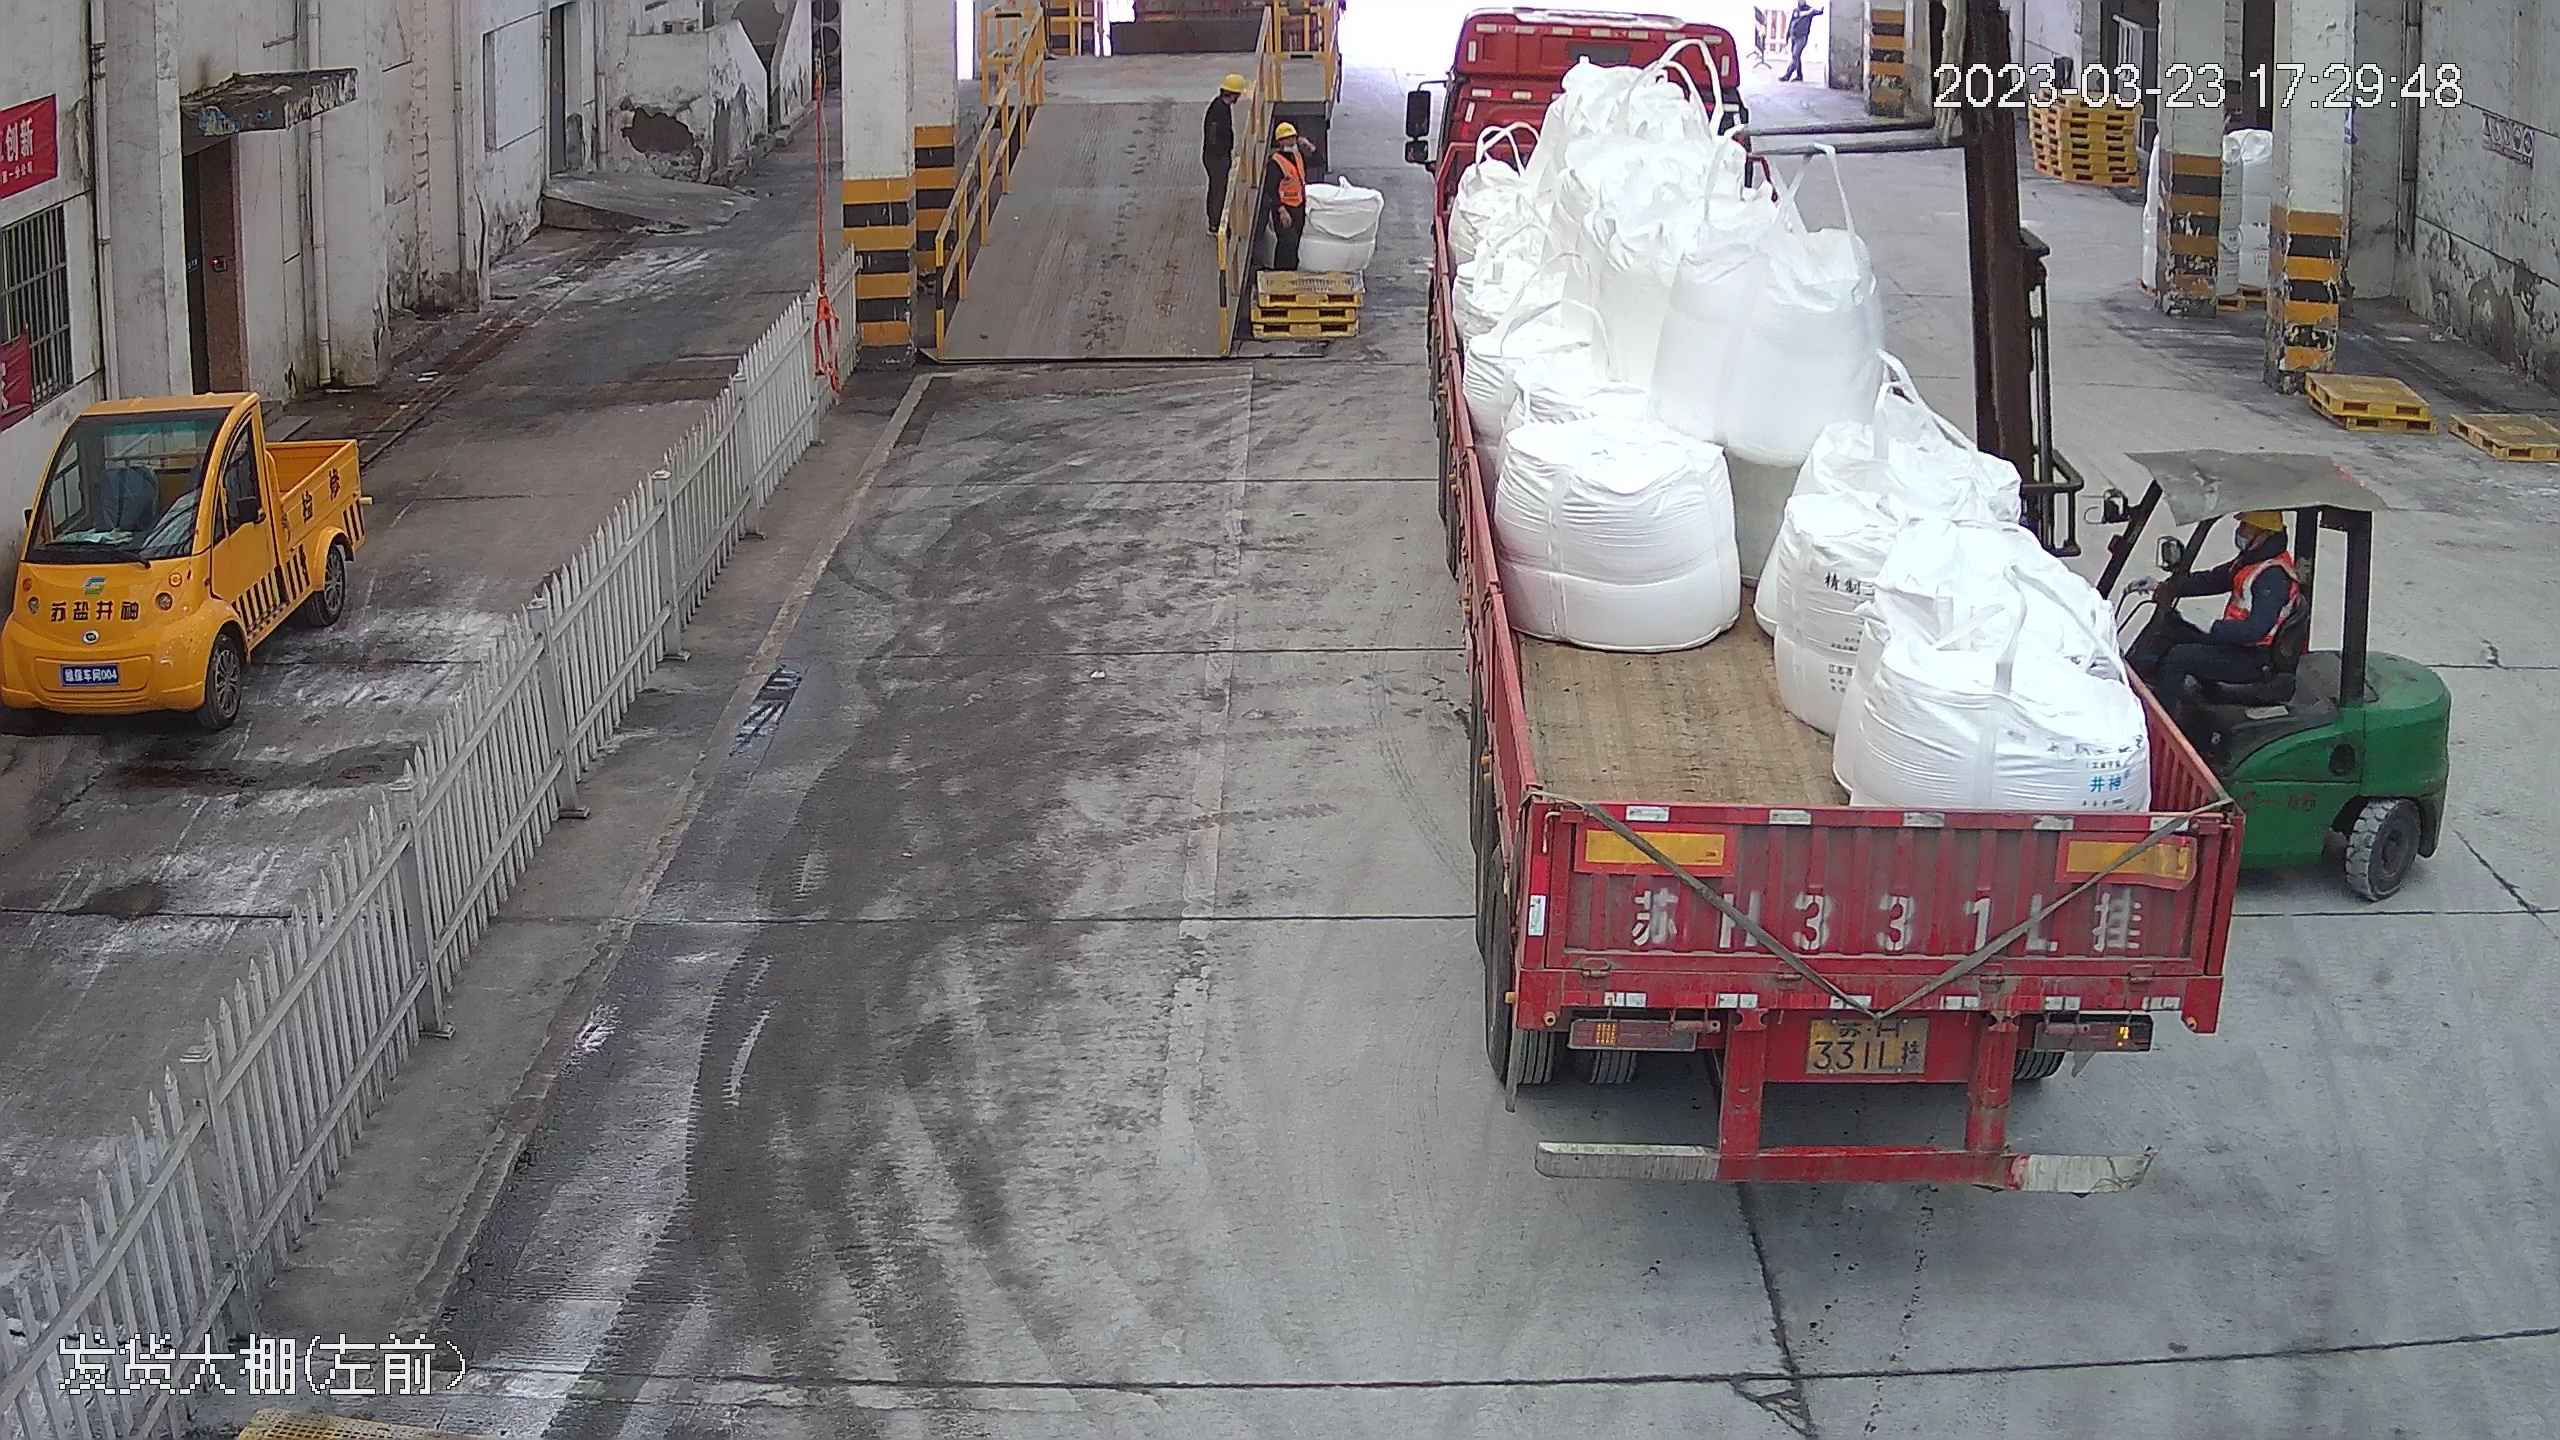head: (2220, 507, 2301, 597), (1265, 119, 1309, 171), (1206, 71, 1247, 122)
helmet: (2240, 506, 2287, 535), (1217, 72, 1244, 93), (1273, 117, 1297, 134)
people: (2163, 501, 2306, 708), (1260, 115, 1317, 272), (1193, 73, 1247, 234)
truck: (1413, 1, 2233, 1172)
